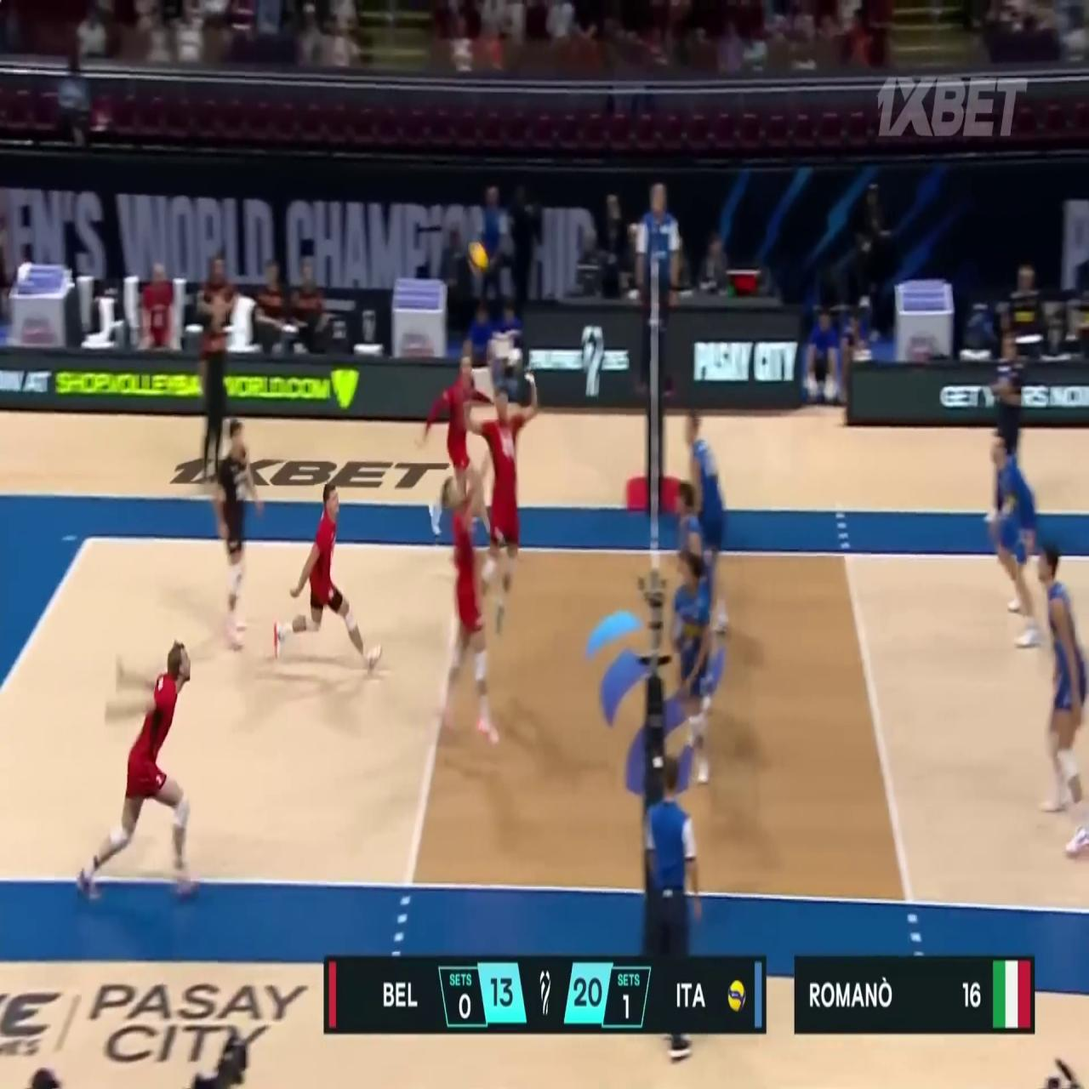ball: (469, 243, 487, 272)
